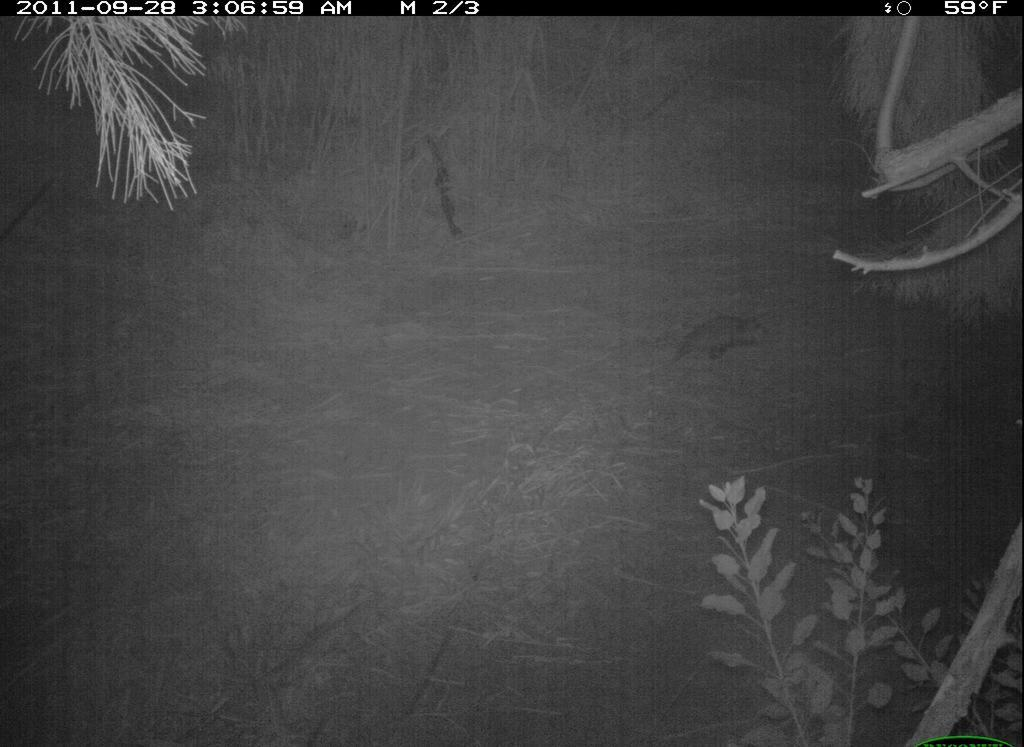opossum: (671, 310, 770, 377)
